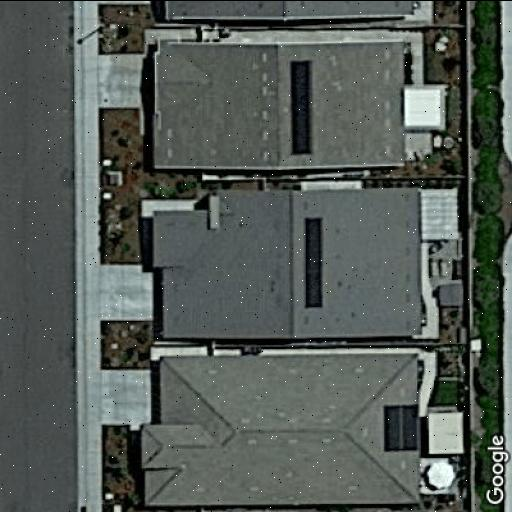solar-panel: (290, 58, 314, 155), (304, 215, 324, 309), (382, 402, 418, 453)
